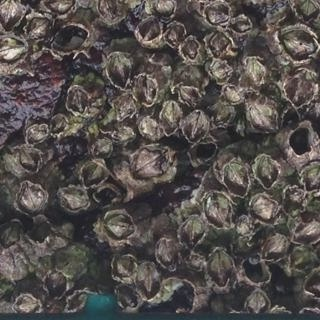Barnacle: (125, 145, 169, 180), (280, 28, 319, 64), (287, 70, 315, 106), (183, 106, 211, 142), (19, 180, 48, 214), (176, 217, 204, 250), (137, 264, 162, 299), (107, 53, 131, 89), (210, 251, 234, 287), (205, 194, 231, 226), (250, 101, 278, 130), (81, 158, 109, 187), (227, 160, 250, 194), (108, 210, 134, 239), (257, 153, 279, 186), (60, 187, 90, 211), (161, 103, 183, 135), (0, 34, 24, 63), (155, 237, 179, 266), (25, 16, 52, 41), (46, 269, 67, 300), (138, 71, 157, 105), (0, 0, 23, 28), (259, 237, 287, 260), (67, 87, 89, 115), (115, 91, 136, 120), (251, 197, 276, 221), (205, 3, 231, 26), (138, 115, 159, 143), (207, 30, 229, 56), (18, 147, 40, 173), (111, 257, 135, 280), (90, 135, 115, 157), (117, 284, 138, 310), (245, 59, 264, 87), (294, 223, 319, 244), (214, 102, 234, 127), (0, 224, 20, 249), (177, 84, 200, 105), (246, 292, 267, 315), (140, 20, 161, 42), (19, 297, 40, 319), (98, 0, 118, 23), (303, 164, 319, 192), (289, 247, 311, 267), (166, 22, 185, 45), (210, 63, 231, 83), (285, 190, 305, 211), (28, 126, 50, 145), (237, 214, 252, 240), (47, 0, 73, 14), (182, 39, 200, 59), (230, 16, 251, 33), (113, 125, 134, 142), (53, 115, 69, 136), (301, 0, 319, 18), (226, 84, 244, 102), (158, 0, 177, 17), (186, 254, 205, 269)
